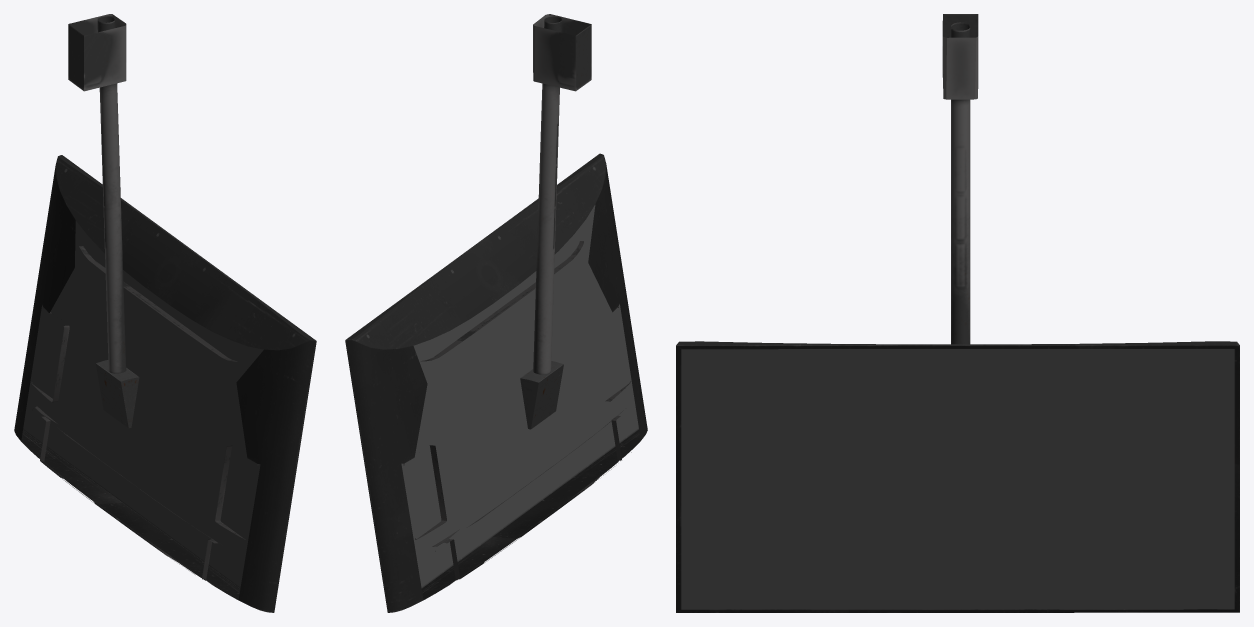
Rendered from SM_CeilingTv_LOD2_003.fbx.
3 views of the same model, side by side, from view 1: azimuth 30°, elevation 25°; view 2: azimuth 150°, elevation 25°; view 3: azimuth 270°, elevation 25° (orthographic). The views are drawn at different scales.
Parts seen in each view (by area): view 1: SM_CeilingTv_LOD2.003; view 2: SM_CeilingTv_LOD2.003; view 3: SM_CeilingTv_LOD2.003.
Boxes of the visible parts, x1,y1,x2,y2 form: SM_CeilingTv_LOD2.003: (14,14,316,612); SM_CeilingTv_LOD2.003: (345,14,647,612); SM_CeilingTv_LOD2.003: (676,14,1239,612).
Bounding box in the file's own units: 26.62 × 115 × 104.
